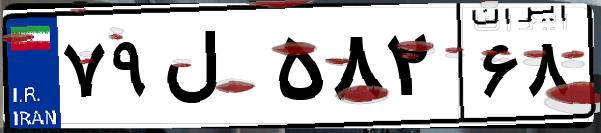2: (385, 28, 445, 110)
5: (270, 28, 330, 110)
6: (475, 38, 525, 113)
7: (57, 26, 110, 100)
8: (330, 28, 385, 110), (525, 38, 570, 115)
9: (110, 28, 158, 98)
ل: (158, 20, 270, 120)
